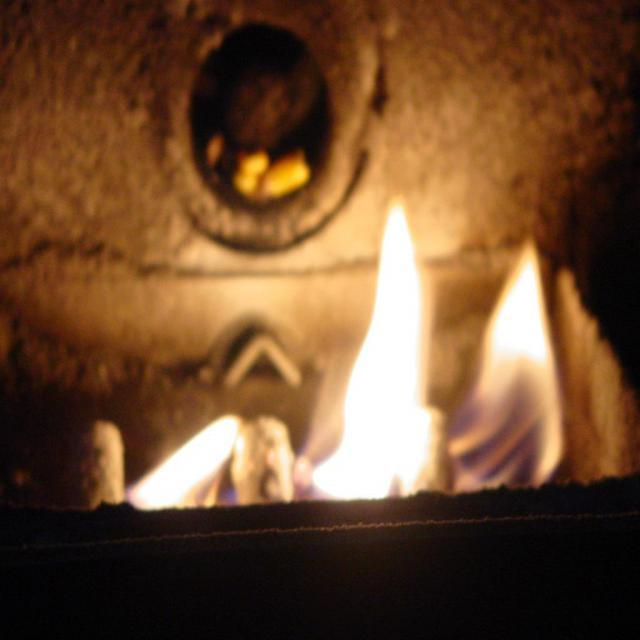Fire: (74, 198, 638, 504)
